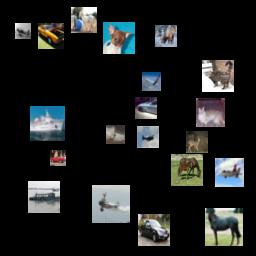airplane: (92, 185, 130, 223), (215, 158, 244, 187), (137, 126, 159, 148), (142, 72, 161, 91), (15, 23, 31, 39)
automobile: (138, 214, 170, 246), (38, 23, 64, 49), (135, 97, 157, 119), (50, 150, 66, 166)
cat: (202, 60, 234, 92), (196, 98, 225, 127)
deer: (186, 131, 208, 153), (155, 25, 177, 47), (106, 125, 125, 144)
dog: (103, 22, 135, 54)
ship: (30, 106, 65, 141), (28, 181, 60, 213)
